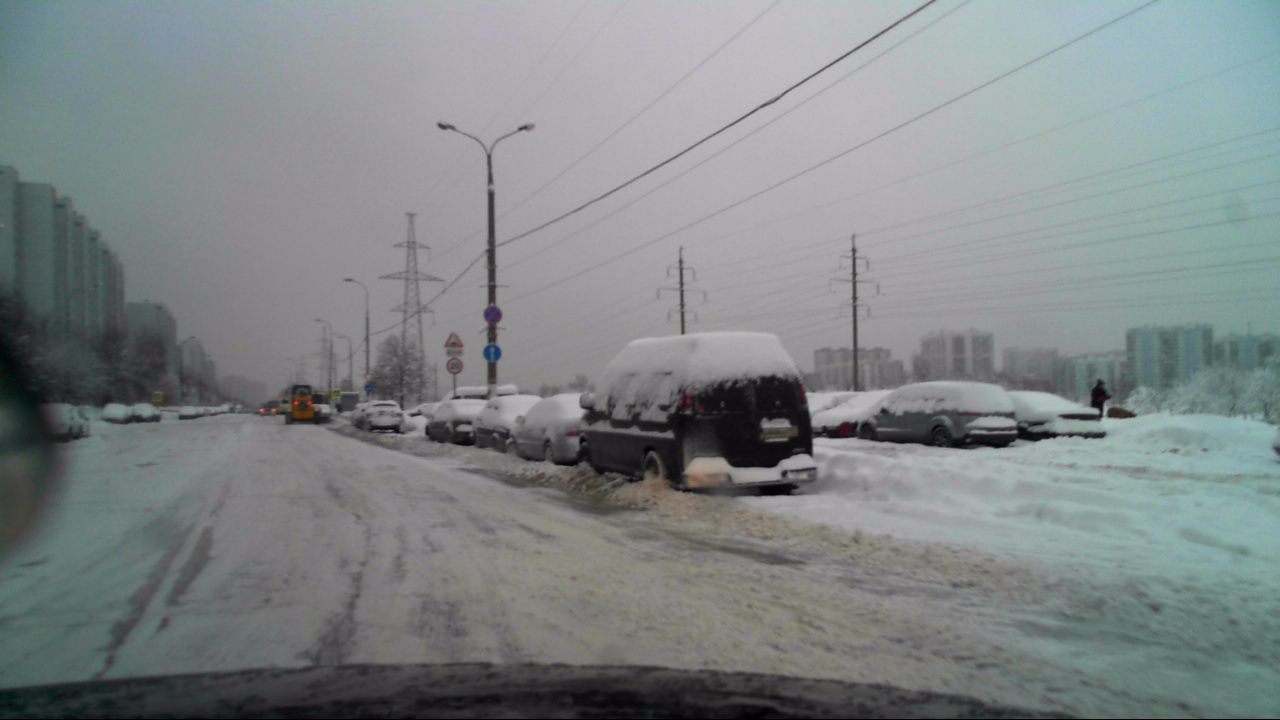No Parking: (481, 302, 503, 325)
